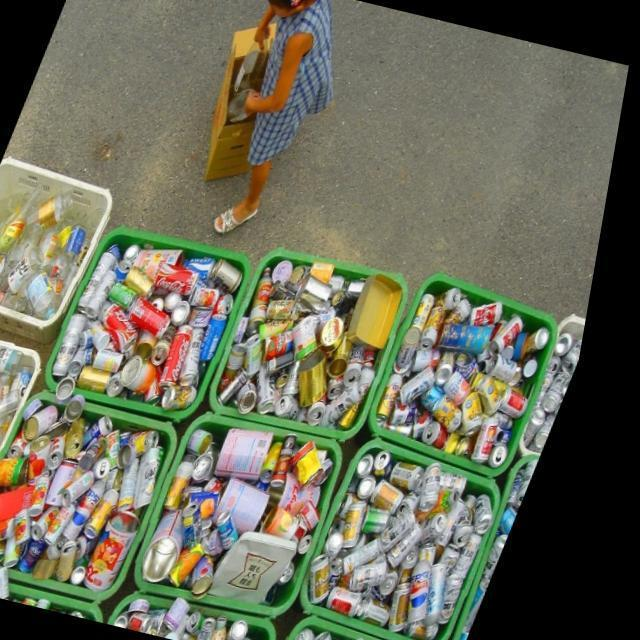Garbage: (0, 156, 597, 640)
Plastic: (58, 225, 259, 422), (0, 158, 119, 343)
Plastic_bottle: (0, 340, 52, 482), (0, 184, 47, 278), (59, 225, 95, 292), (33, 191, 79, 235), (428, 547, 451, 622), (36, 270, 67, 319), (18, 247, 50, 293), (0, 388, 35, 426), (445, 488, 478, 517), (47, 232, 66, 268), (232, 614, 249, 640)
Tin_box: (104, 511, 158, 590), (360, 273, 412, 347), (230, 477, 287, 534), (231, 427, 288, 477), (286, 472, 338, 515), (257, 267, 282, 336), (307, 439, 341, 489), (311, 349, 340, 406), (62, 458, 95, 505), (142, 248, 191, 279), (191, 543, 223, 585), (133, 355, 168, 393), (306, 276, 341, 312), (38, 406, 71, 441), (303, 315, 329, 359), (340, 332, 365, 377), (44, 433, 66, 481), (9, 457, 43, 486), (202, 490, 237, 517), (185, 596, 211, 630), (274, 331, 303, 361), (331, 316, 356, 348), (202, 428, 228, 455), (271, 318, 304, 339), (119, 428, 136, 468), (147, 329, 169, 359), (318, 499, 338, 529), (467, 353, 489, 380), (78, 393, 99, 421), (52, 557, 78, 579), (426, 412, 447, 438), (69, 375, 89, 401), (134, 441, 153, 467), (281, 259, 302, 281), (319, 263, 343, 282), (199, 308, 222, 327), (174, 291, 193, 312), (245, 315, 259, 343), (149, 598, 171, 613)
can: (363, 508, 433, 575), (407, 293, 444, 372), (162, 509, 202, 581), (88, 245, 129, 310), (346, 585, 411, 626), (81, 478, 121, 539), (353, 359, 388, 427), (410, 546, 438, 631), (65, 312, 98, 377), (173, 324, 203, 387), (334, 380, 375, 426), (436, 384, 476, 431), (447, 322, 505, 352), (113, 305, 150, 352), (139, 297, 181, 338), (454, 499, 483, 557), (103, 488, 136, 538), (497, 354, 550, 385), (150, 446, 176, 508), (94, 269, 126, 318), (164, 262, 209, 295), (407, 521, 440, 566), (181, 460, 210, 509), (192, 327, 216, 386), (230, 343, 258, 392), (471, 532, 500, 577), (288, 433, 312, 487), (414, 366, 448, 404), (429, 303, 457, 349), (369, 557, 408, 590), (446, 562, 466, 624), (212, 314, 238, 361), (487, 416, 513, 463), (502, 315, 534, 353), (460, 573, 484, 623), (281, 505, 316, 539), (387, 479, 421, 514), (78, 470, 111, 506), (63, 505, 93, 544), (390, 373, 416, 418), (134, 457, 156, 510), (502, 533, 527, 578), (361, 500, 384, 548), (410, 581, 432, 631), (487, 376, 515, 415), (555, 371, 581, 413), (436, 461, 457, 512), (219, 259, 251, 292), (134, 265, 165, 299), (330, 552, 350, 604), (475, 390, 498, 435), (406, 461, 440, 490), (163, 324, 187, 365), (456, 371, 484, 406), (270, 362, 289, 413), (99, 414, 126, 449), (275, 441, 298, 482), (75, 539, 97, 581), (38, 538, 65, 572), (46, 473, 67, 516), (212, 554, 233, 597), (471, 505, 492, 548), (200, 502, 220, 547), (50, 505, 76, 539), (356, 343, 377, 385), (513, 388, 542, 418), (175, 385, 211, 409), (288, 394, 320, 421), (235, 510, 257, 549), (208, 449, 234, 482), (538, 406, 560, 445), (90, 367, 124, 392), (490, 494, 511, 534), (95, 439, 120, 472), (480, 300, 513, 325), (574, 334, 595, 373), (119, 281, 147, 310), (379, 507, 409, 534), (440, 511, 466, 542), (80, 417, 100, 457), (436, 420, 464, 448), (344, 518, 363, 559), (145, 429, 174, 455), (157, 366, 176, 405), (257, 333, 274, 376), (193, 257, 223, 281), (105, 349, 136, 372), (250, 380, 271, 413), (404, 399, 431, 424), (456, 471, 484, 495), (32, 507, 50, 544), (62, 435, 81, 470), (448, 350, 467, 385), (445, 287, 472, 311), (295, 360, 313, 396), (425, 348, 453, 371), (199, 286, 229, 307), (460, 434, 490, 455), (536, 327, 561, 352), (413, 490, 438, 515), (456, 299, 482, 323), (458, 544, 479, 573), (343, 531, 363, 561), (22, 535, 40, 568), (0, 503, 14, 545), (12, 566, 30, 598), (96, 534, 118, 560), (354, 492, 376, 518), (80, 346, 98, 377), (321, 396, 340, 425), (22, 430, 42, 457), (277, 299, 304, 319), (390, 449, 409, 477), (207, 609, 224, 640), (150, 611, 175, 632), (181, 300, 201, 326), (170, 608, 189, 635), (65, 535, 86, 559), (503, 443, 524, 467), (373, 474, 393, 499), (223, 293, 244, 316), (218, 616, 238, 640), (399, 569, 418, 594), (249, 618, 270, 640), (566, 332, 585, 356), (119, 371, 137, 396), (108, 456, 127, 479), (372, 454, 390, 478), (340, 375, 357, 399), (298, 560, 314, 584), (8, 540, 24, 563), (559, 354, 574, 378), (124, 260, 141, 281), (508, 411, 527, 429), (316, 532, 331, 554), (131, 243, 149, 261), (90, 565, 106, 584), (403, 424, 428, 436), (90, 328, 104, 348), (316, 626, 336, 640), (509, 429, 526, 445), (136, 611, 151, 628), (288, 371, 302, 389)
